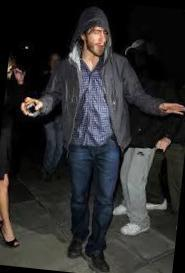Drunk: (85, 24, 109, 56)
